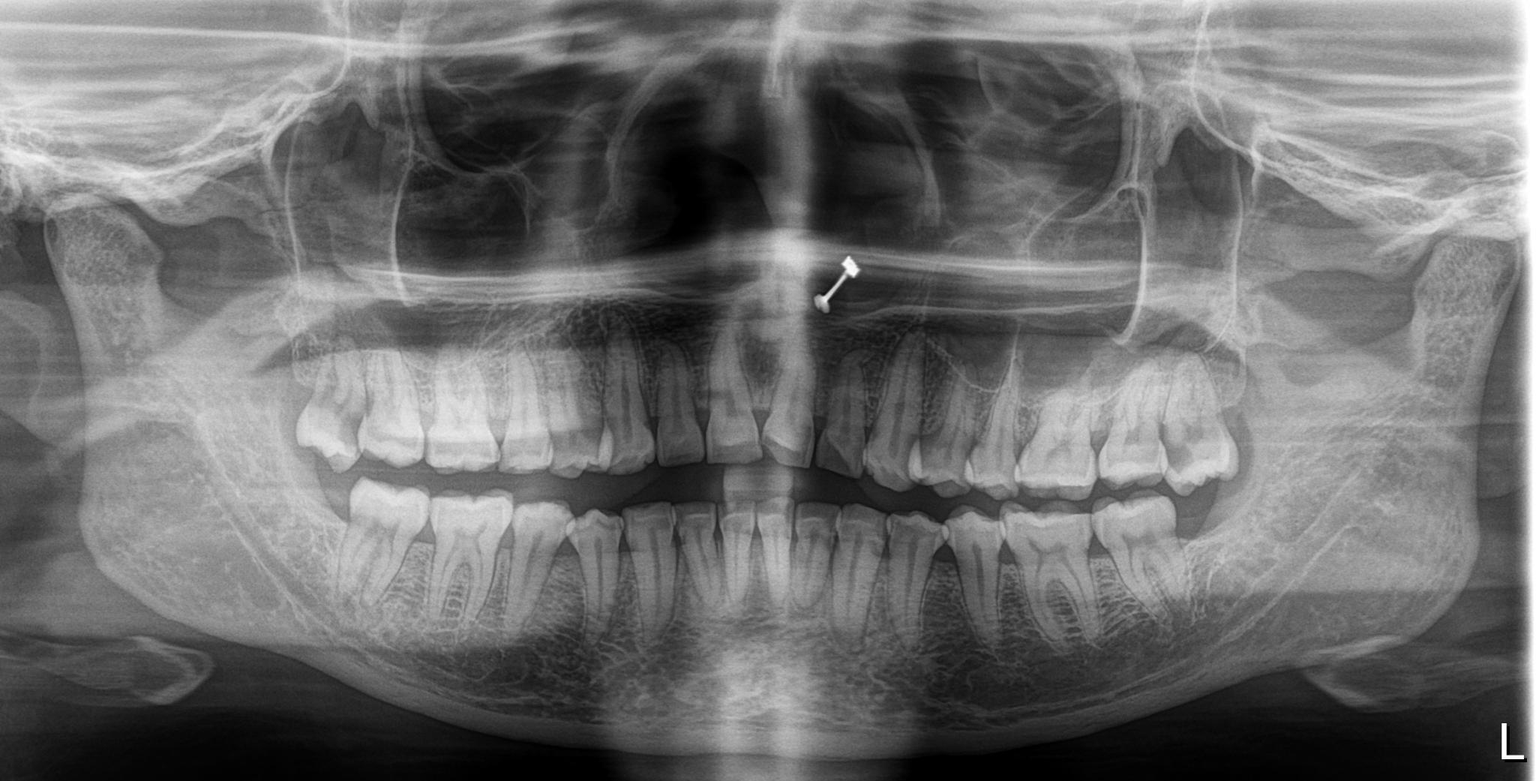Dental Caries: (1151, 428, 1193, 477), (326, 437, 359, 480)
